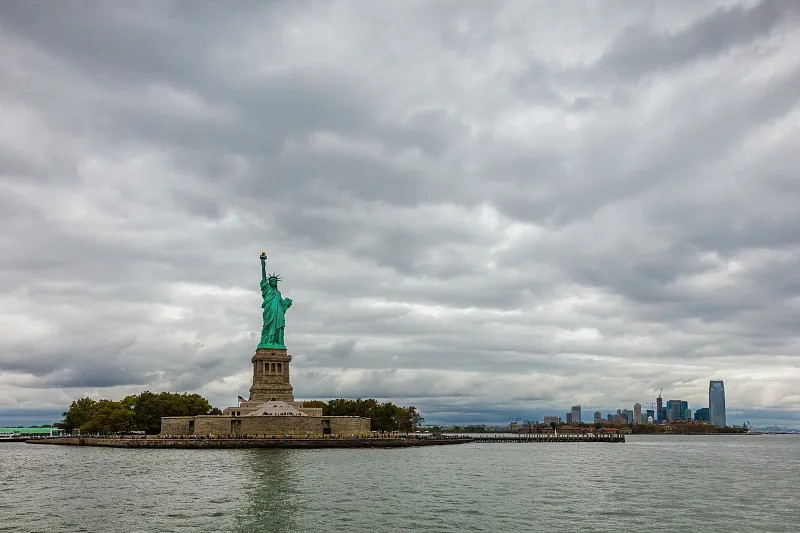SL: (248, 250, 294, 401)
